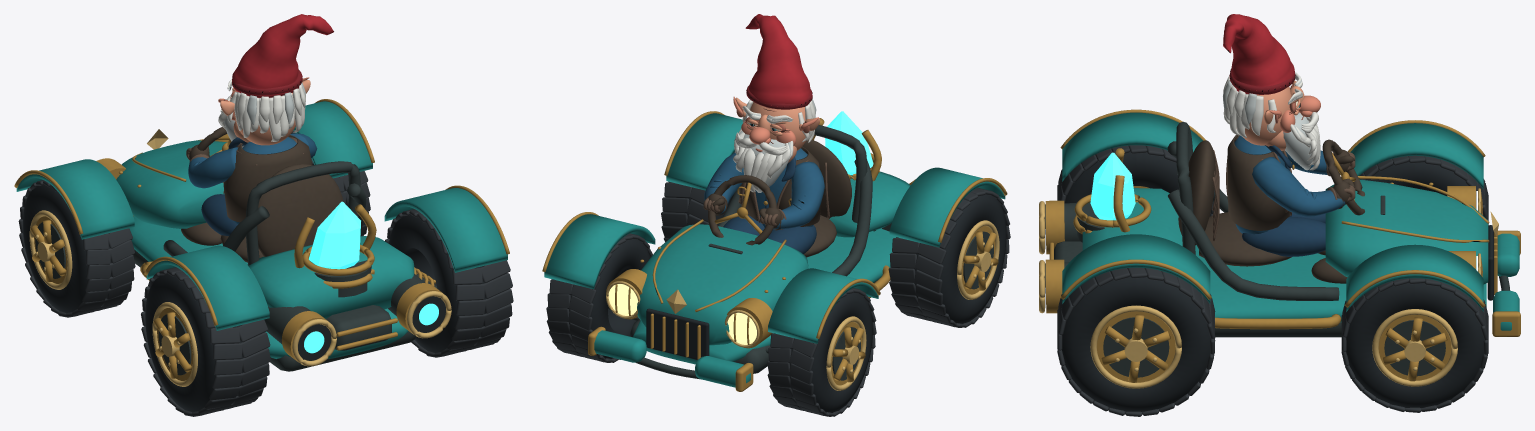
The model's file is hero-blockout.glb.
The picture shows the model from 3 angles, left to right: view 1: azimuth 30°, elevation 25°; view 2: azimuth 150°, elevation 25°; view 3: azimuth 270°, elevation 25°; orthographic projection. The views are drawn at different scales.
Visible parts, largest first — view 1: Body, RearLeftRoll, EngineCradle, FrontLeftRoll, RearRightRoll, DriverBody, Hat, Head, Crystal, FrontRightRoll; view 2: Body, RearLeftRoll, FrontLeftRoll, DriverBody, FrontRightRoll, Head, Hat, RearRightRoll, SteeringWheel, Crystal, EngineCradle; view 3: Body, RearRightRoll, FrontRightRoll, DriverBody, Head, EngineCradle, Hat, RearLeftRoll, FrontLeftRoll, Crystal, SteeringWheel.
Part boxes in pixels (<box>): Body: <box>14,99,509,371</box>; RearLeftRoll: <box>141,267,270,416</box>; EngineCradle: <box>264,204,451,366</box>; FrontLeftRoll: <box>18,180,135,317</box>; RearRightRoll: <box>385,209,513,357</box>; DriverBody: <box>181,133,317,245</box>; Hat: <box>232,14,333,97</box>; Head: <box>218,77,310,147</box>; Crystal: <box>309,201,360,269</box>; FrontRightRoll: <box>291,131,370,236</box>; Body: <box>542,111,1007,391</box>; RearLeftRoll: <box>888,187,1010,327</box>; FrontLeftRoll: <box>767,288,876,416</box>; DriverBody: <box>704,146,824,254</box>; FrontRightRoll: <box>546,233,652,362</box>; Head: <box>733,96,820,192</box>; Hat: <box>745,14,812,109</box>; RearRightRoll: <box>661,151,735,241</box>; SteeringWheel: <box>708,175,777,245</box>; Crystal: <box>825,111,873,174</box>; EngineCradle: <box>812,118,915,231</box>; Body: <box>1060,109,1520,337</box>; RearRightRoll: <box>1057,267,1215,416</box>; FrontRightRoll: <box>1341,278,1488,412</box>; DriverBody: <box>1226,134,1347,283</box>; Head: <box>1223,72,1320,170</box>; EngineCradle: <box>1039,148,1151,313</box>; Hat: <box>1223,14,1295,94</box>; RearLeftRoll: <box>1057,145,1213,216</box>; FrontLeftRoll: <box>1359,155,1488,225</box>; Crystal: <box>1090,152,1135,220</box>; SteeringWheel: <box>1322,139,1364,215</box>.
Bounding box in the file's own units: 2.18 × 2.08 × 2.7.
Materials: 1 (1 with a texture image).
